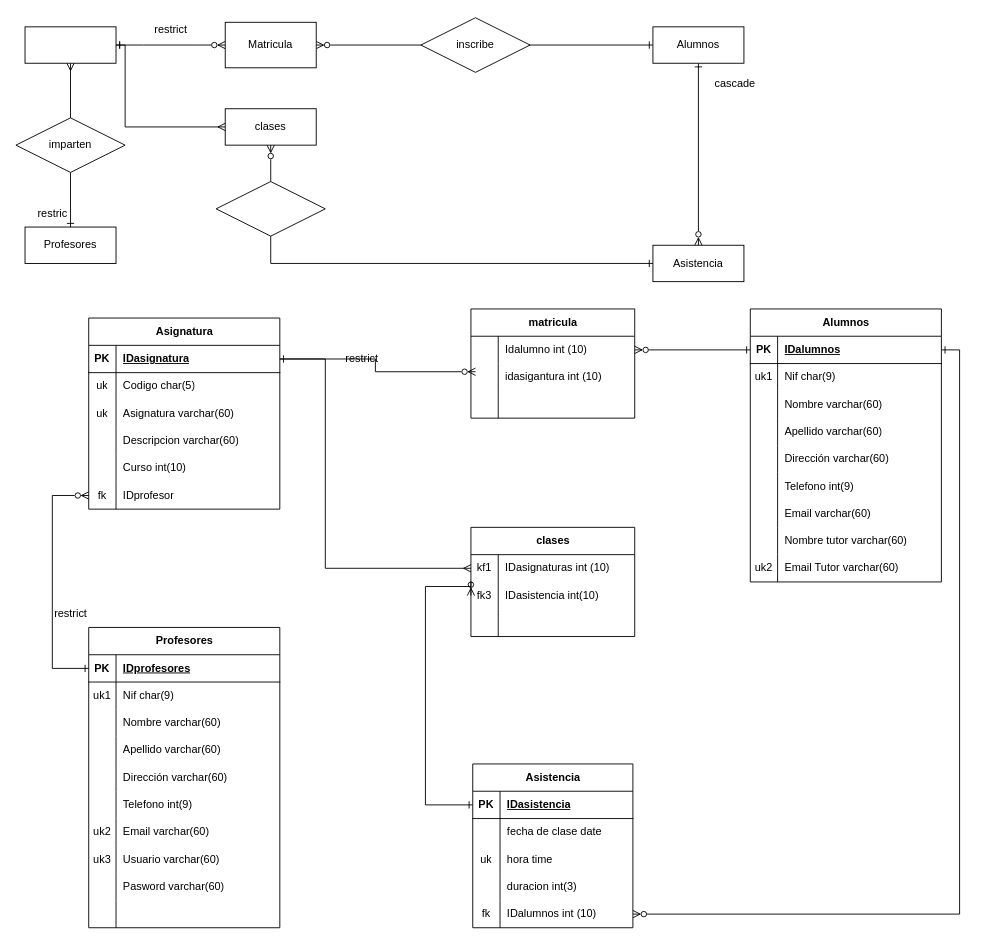
This 984x944 diagram has some shape labels left out. The centre of each missing label's shape, as x and y in pixels:
Aasignaturas: the point at 70,44
control: the point at 270,208
